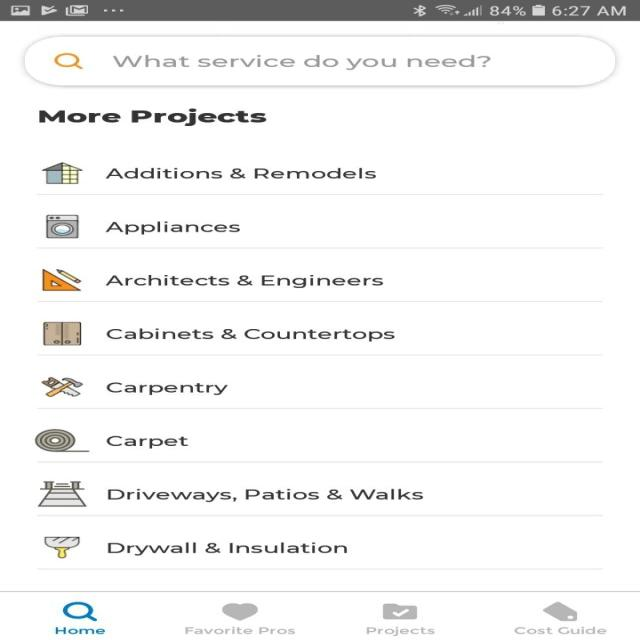EditText: (24, 36, 615, 86)
Icon: (541, 601, 577, 621), (62, 601, 98, 621), (221, 602, 258, 621), (381, 603, 417, 620), (54, 53, 84, 70)
Image: (34, 429, 90, 452), (37, 481, 88, 506), (41, 161, 83, 184), (42, 322, 82, 346), (41, 376, 84, 397), (42, 269, 82, 291), (44, 535, 81, 558), (45, 215, 79, 238)
Text: (112, 54, 491, 70), (106, 488, 424, 502), (38, 108, 267, 126), (106, 328, 394, 342), (105, 274, 383, 288), (105, 167, 376, 179), (106, 542, 347, 555), (105, 220, 240, 234), (105, 382, 228, 395), (105, 435, 188, 449), (185, 626, 296, 634), (365, 625, 435, 636), (514, 626, 606, 634), (54, 626, 104, 634)
